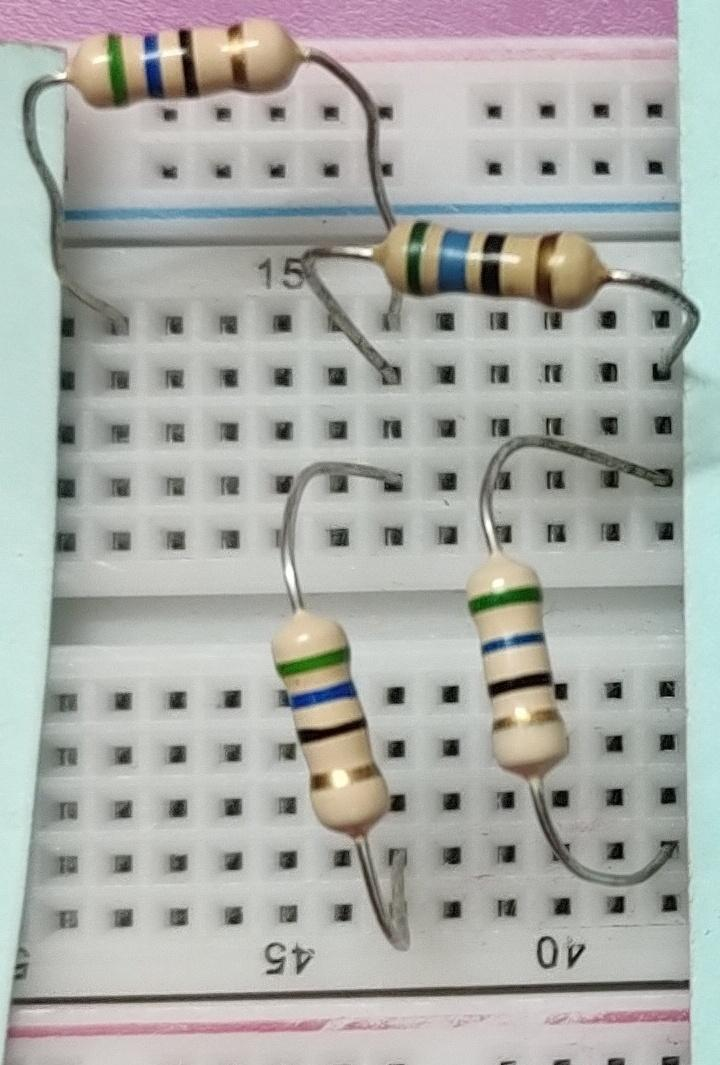resistor: (249, 595, 402, 844), (371, 199, 638, 330), (449, 541, 588, 783), (55, 3, 305, 137)
